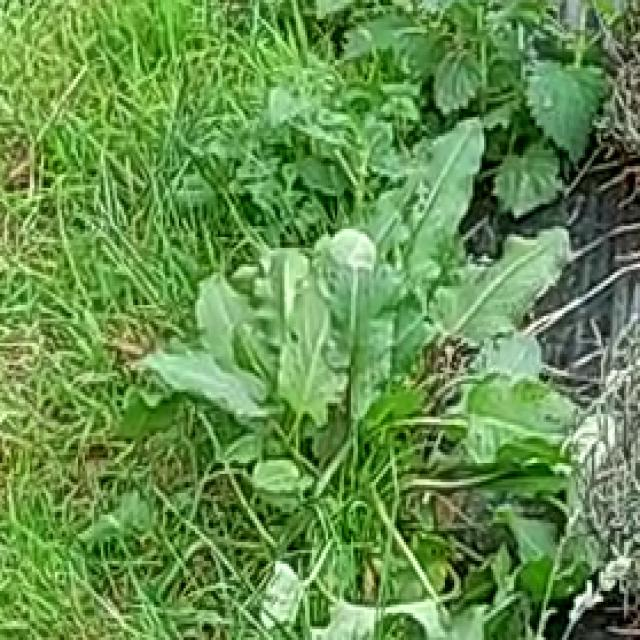organic waste: (151, 136, 578, 597)
